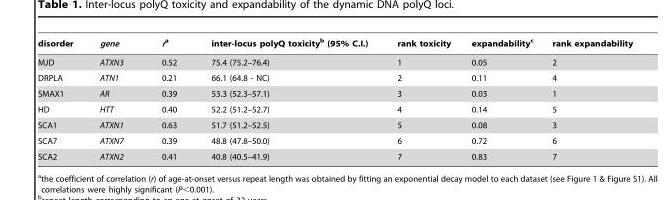table: (36, 37, 632, 160)
table column: (193, 37, 381, 160), (542, 37, 632, 160), (460, 37, 542, 160), (381, 37, 460, 160), (85, 37, 141, 160), (141, 37, 193, 160), (36, 37, 85, 160)
table column header: (36, 37, 632, 52)
table row: (36, 52, 632, 69), (36, 69, 632, 85), (36, 85, 632, 101), (36, 101, 632, 117), (36, 132, 632, 148), (36, 37, 632, 52), (36, 117, 632, 132), (36, 148, 632, 160)
